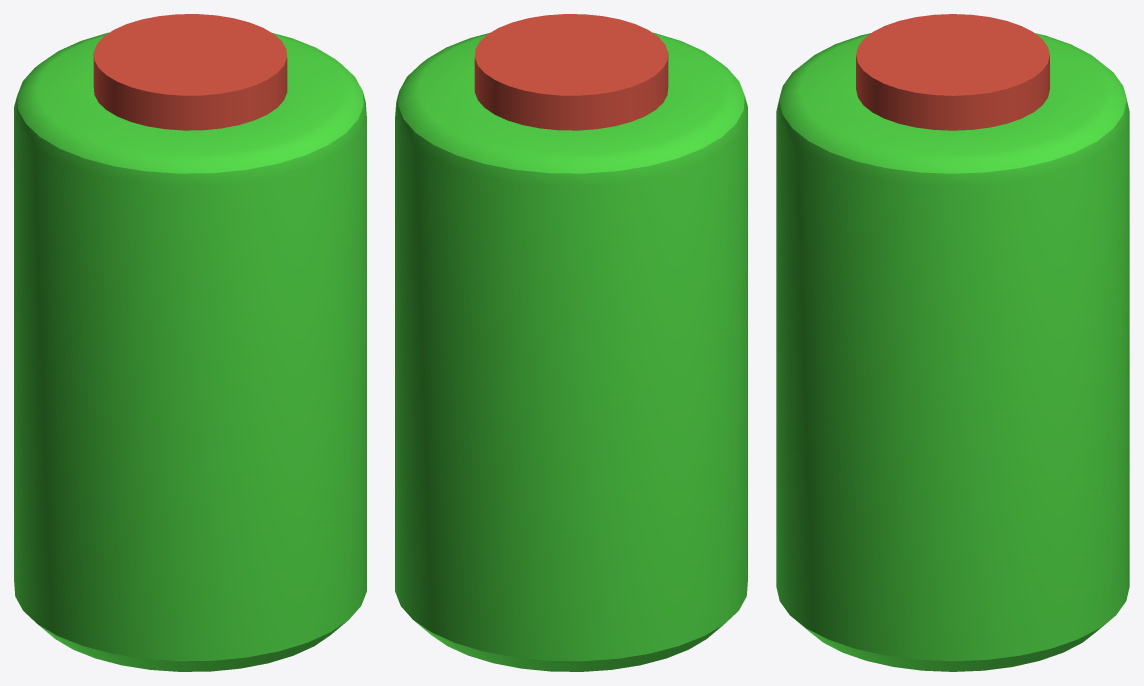
The model's file is batre.fbx.
3 views of the same model, side by side, from view 1: azimuth 30°, elevation 25°; view 2: azimuth 150°, elevation 25°; view 3: azimuth 270°, elevation 25° (orthographic).
Visible parts, largest first — view 1: Cylinder; view 2: Cylinder; view 3: Cylinder.
Part boxes in pixels (left/top/right/bottom): Cylinder: left=14, top=14, right=366, bottom=671; Cylinder: left=395, top=14, right=747, bottom=671; Cylinder: left=776, top=14, right=1129, bottom=671.
Bounding box in the file's own units: 2 × 3.53 × 2.
